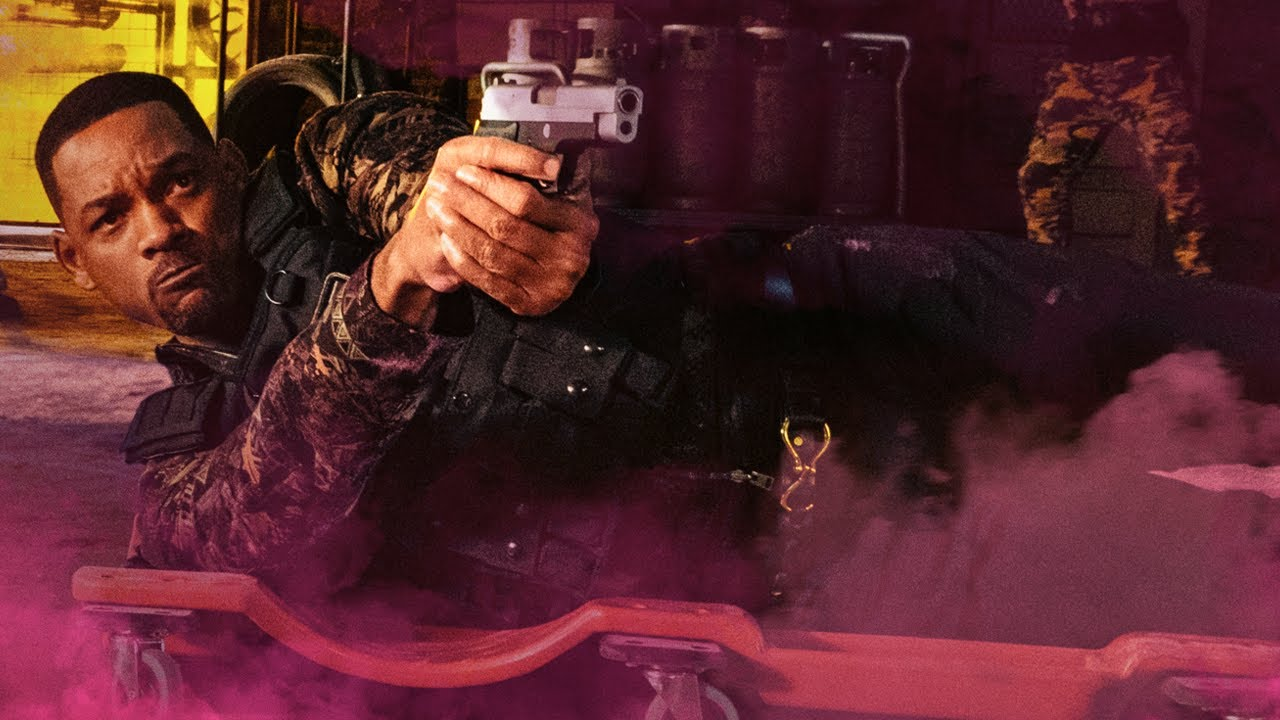gun: (463, 75, 648, 203)
